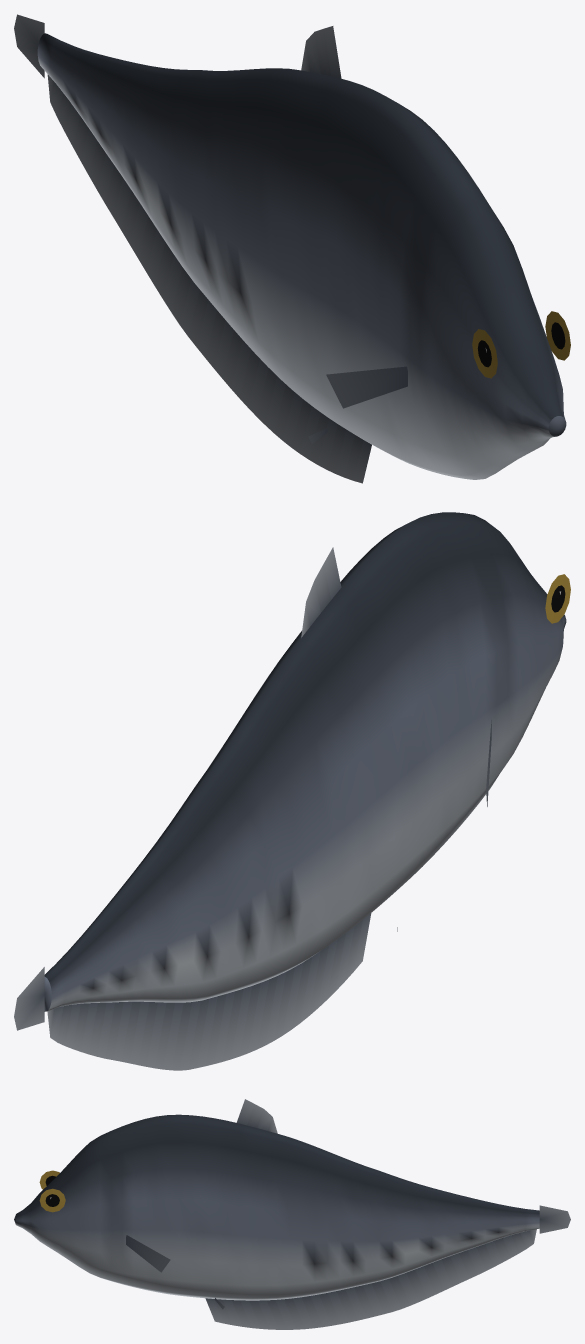
Rendered from belida.fbx.
The picture shows the model from 3 angles, top to bottom: view 1: azimuth 30°, elevation 25°; view 2: azimuth 150°, elevation 25°; view 3: azimuth 270°, elevation 25°; orthographic projection. The views are drawn at different scales.
Parts seen in each view (by area): view 1: belida; view 2: belida; view 3: belida.
Part boxes in pixels (left/top/right/bottom): belida: left=14, top=14, right=570, bottom=483; belida: left=14, top=512, right=570, bottom=1070; belida: left=14, top=1099, right=570, bottom=1329.
Size of the model in its own units: 0.1804 by 0.4869 by 1.06.
